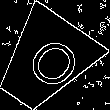O_SW: (10, 29, 79, 96)
